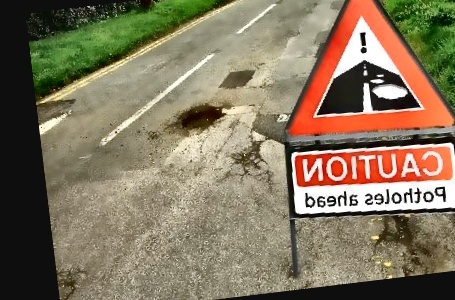pothole: (169, 101, 228, 137)
